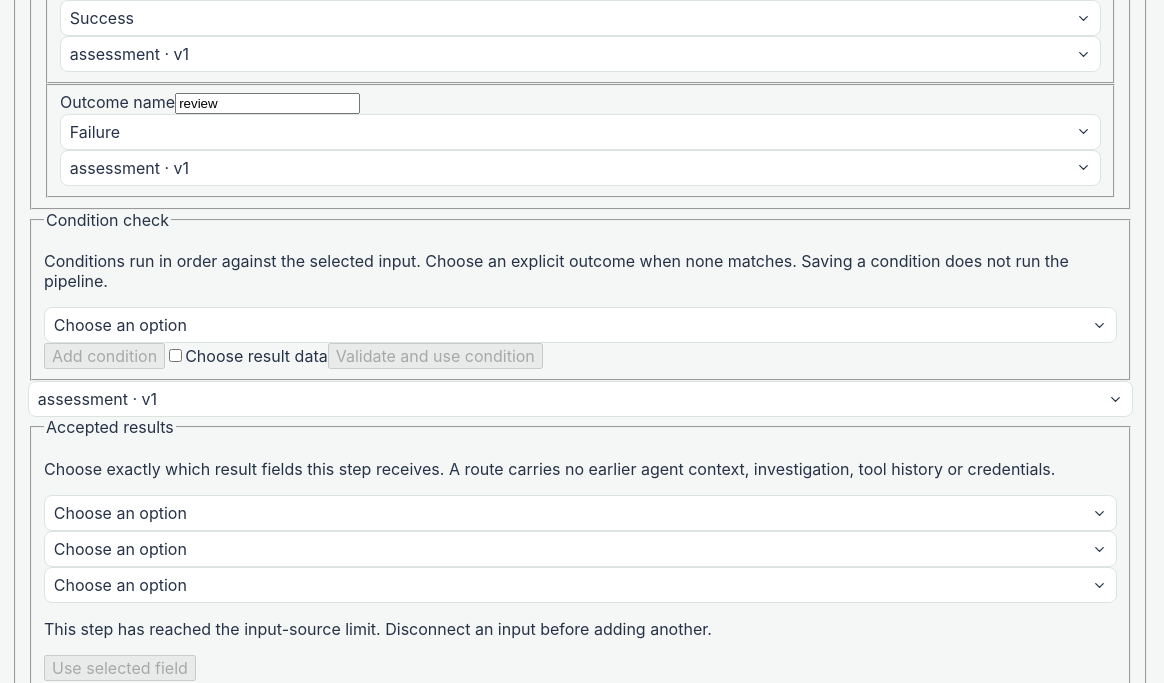
Test case: discards unapplied step changes and ignores a later normalization reply
This screenshot has width=1164, height=683.
(page scrolled)
Click the dropdown named "If no condition matches" at (120, 325), box [44,307,1117,343]
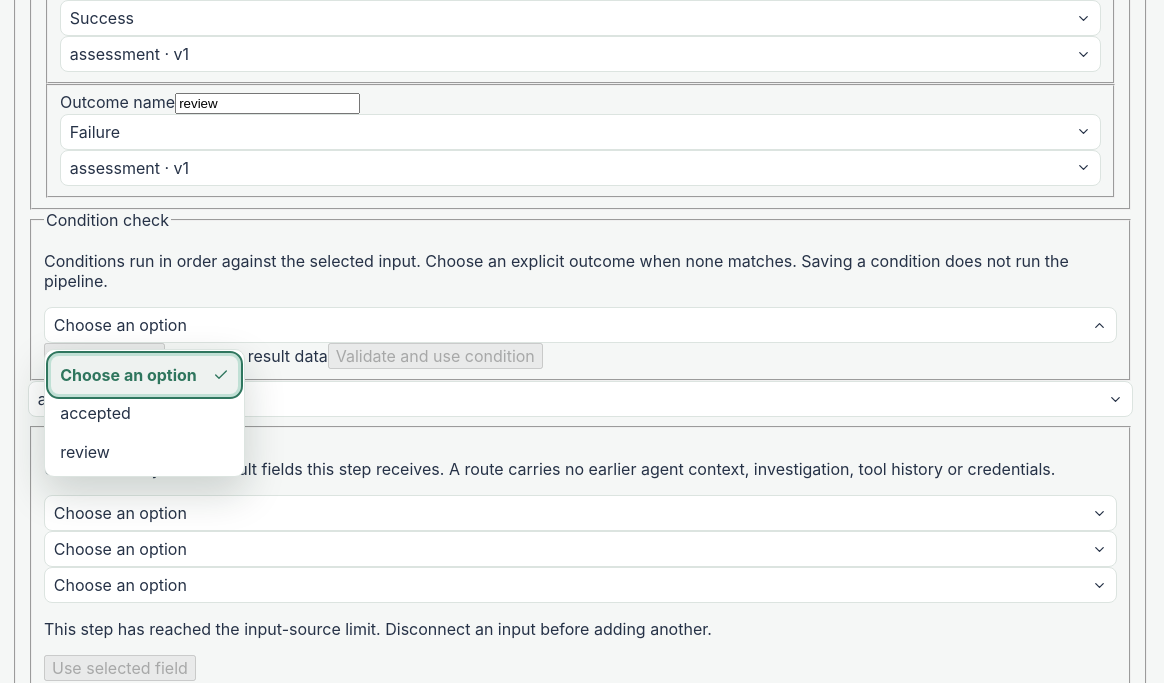
Click the option "review" at (144, 452), box [51,432,238,471]
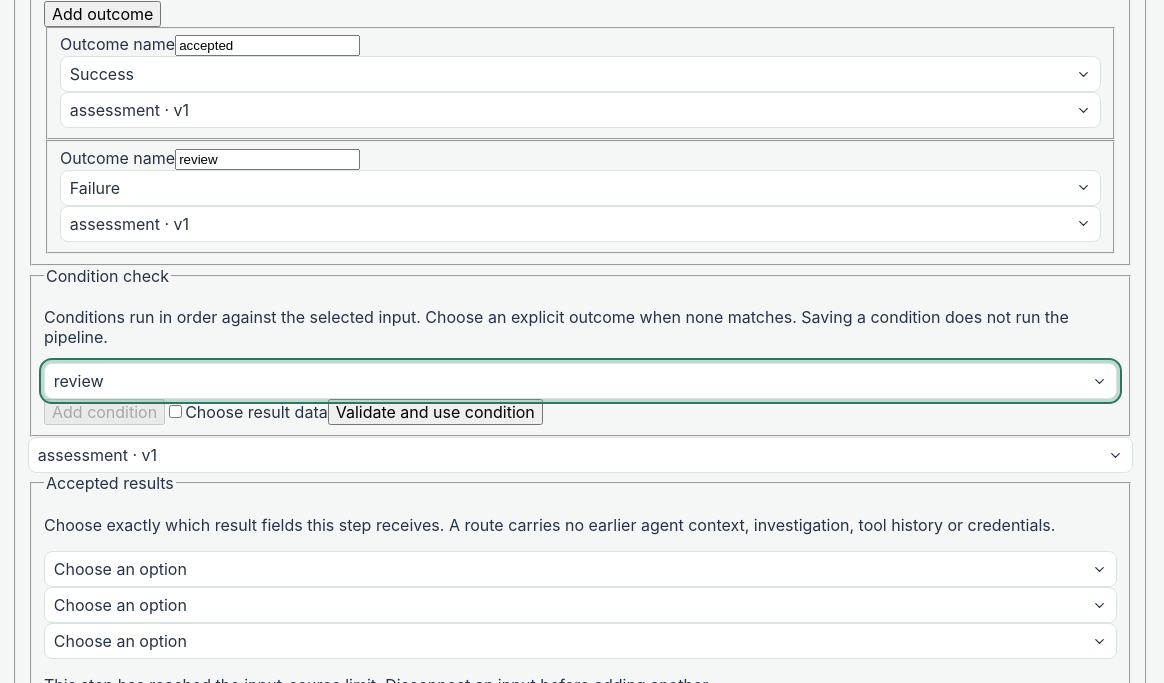
Click the button "Validate and use condition" at (435, 412), box [328,399,543,425]
(page scrolled)
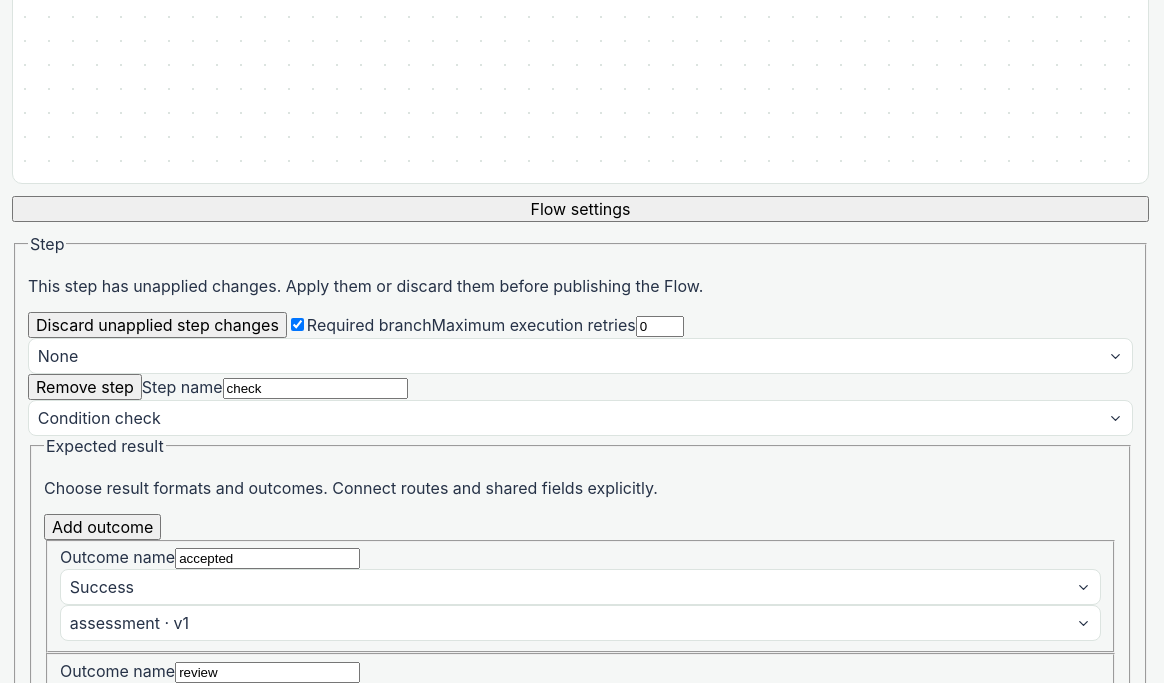
Click the button "Discard unapplied step changes" at (157, 325), box [28,312,287,338]
(page scrolled)
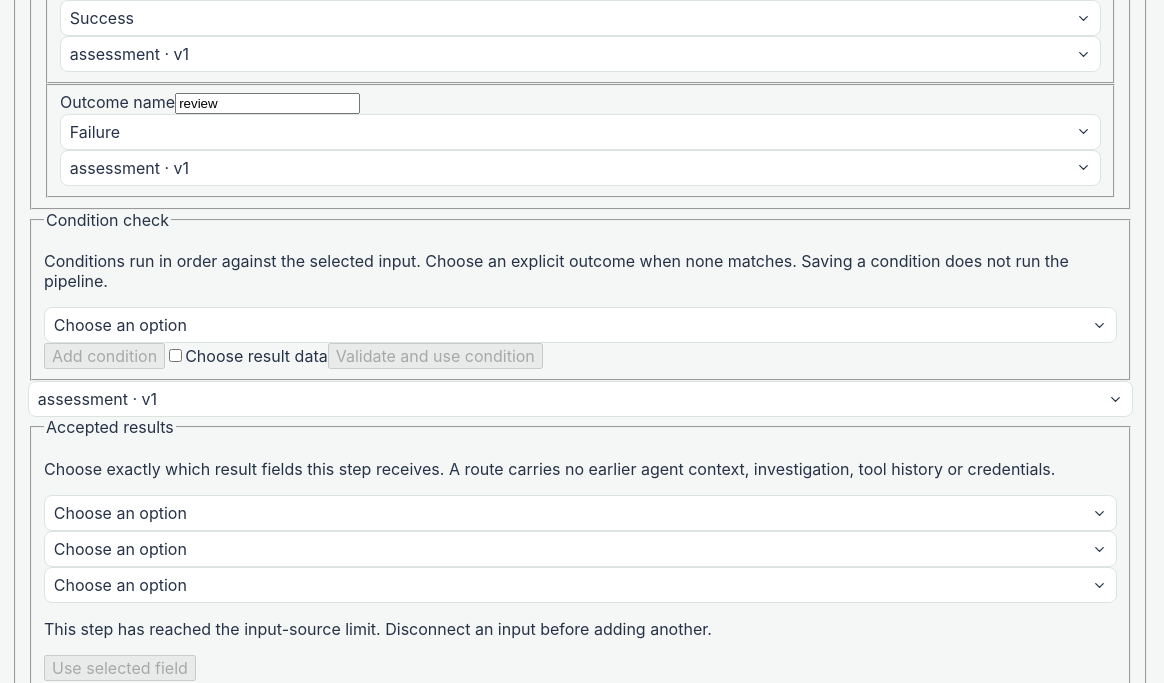
Expected: the dropdown named "If no condition matches" shows "Choose", [44,307,1117,343]
